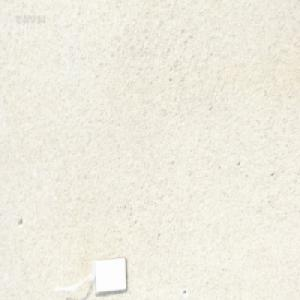LuggageTag: (52, 254, 128, 294)
